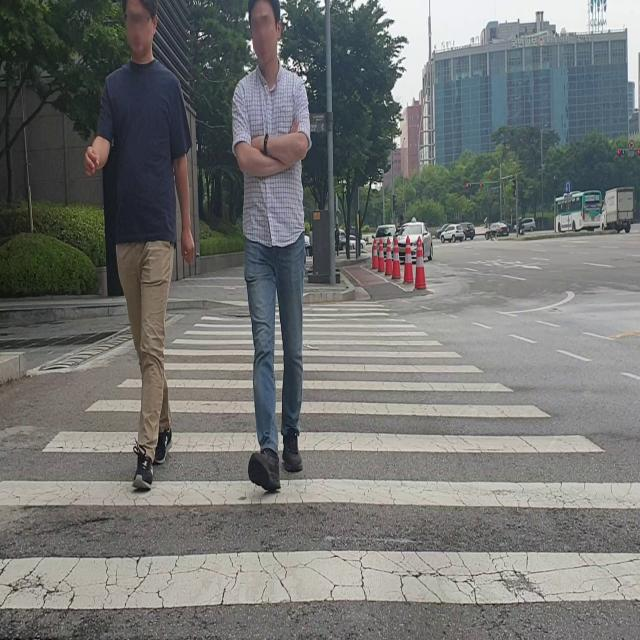횡단보도: (0, 298, 640, 614)
